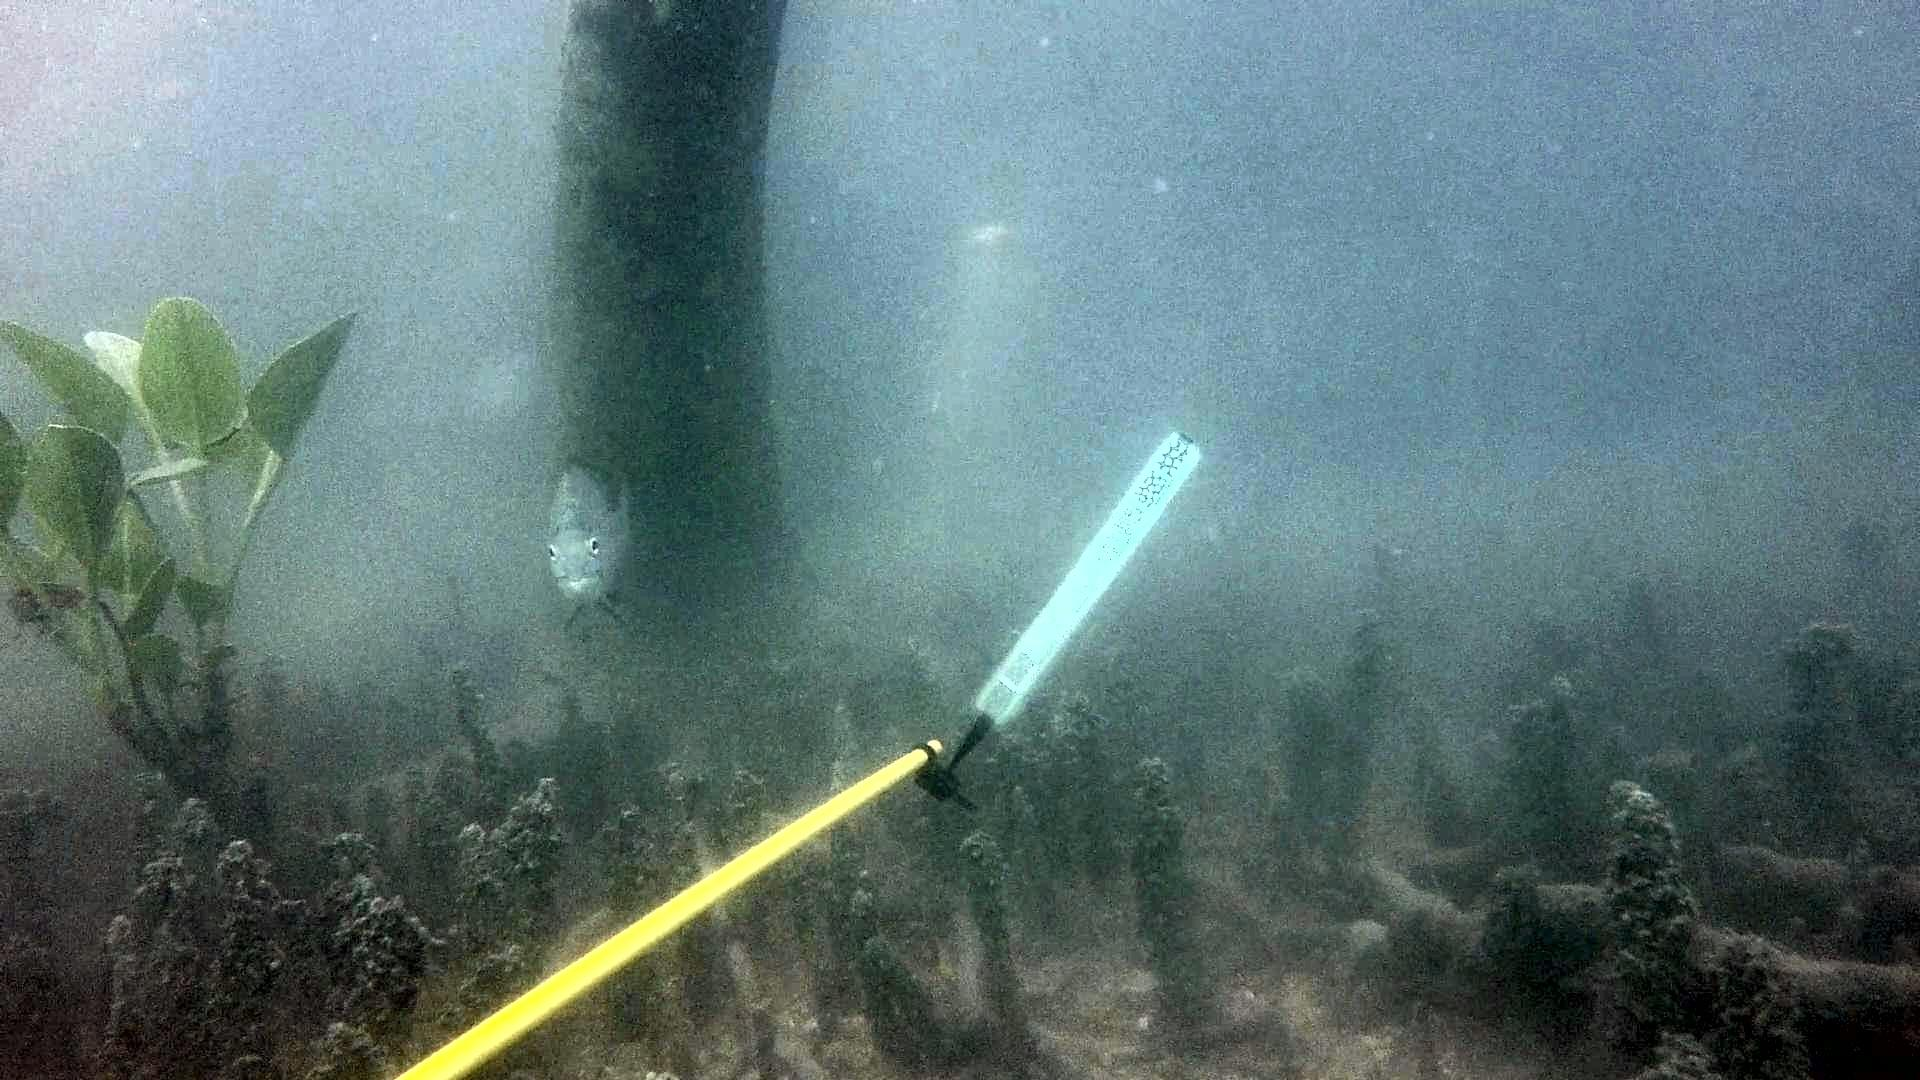acanthopagrus palmaris: (533, 448, 670, 640)
